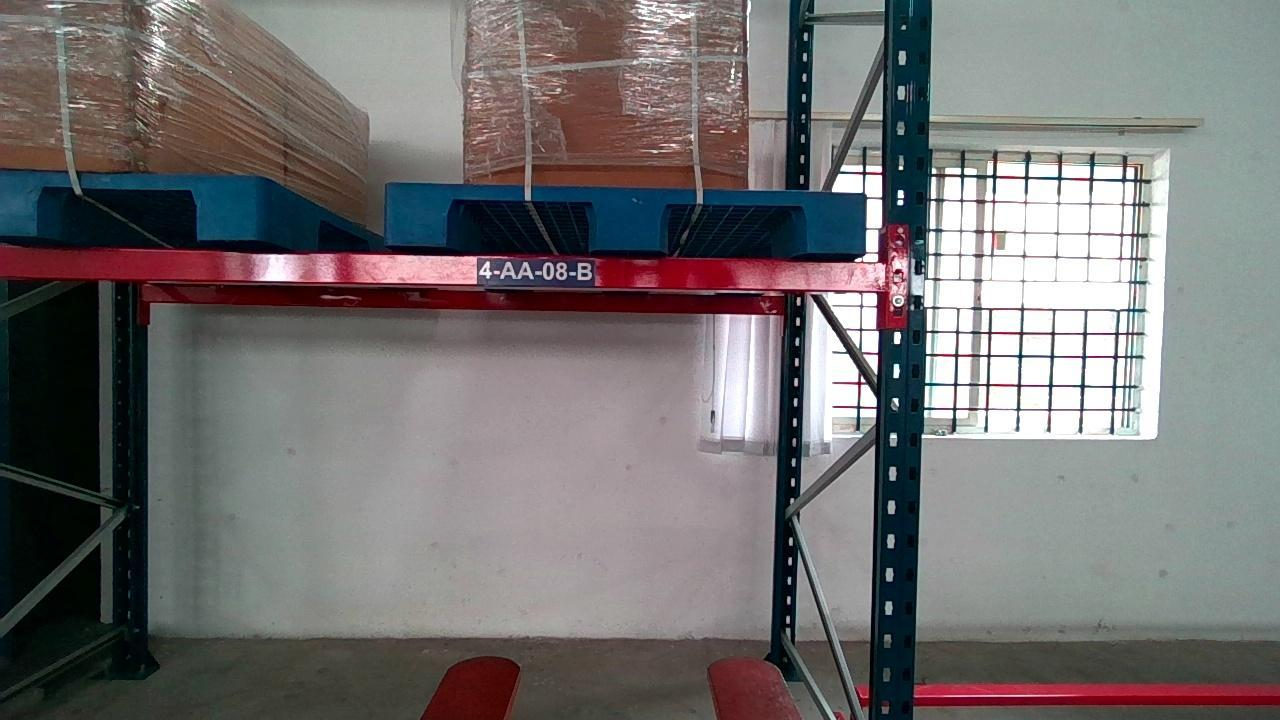h_rack: (0, 247, 883, 291)
small_pallet: (387, 187, 865, 253)
